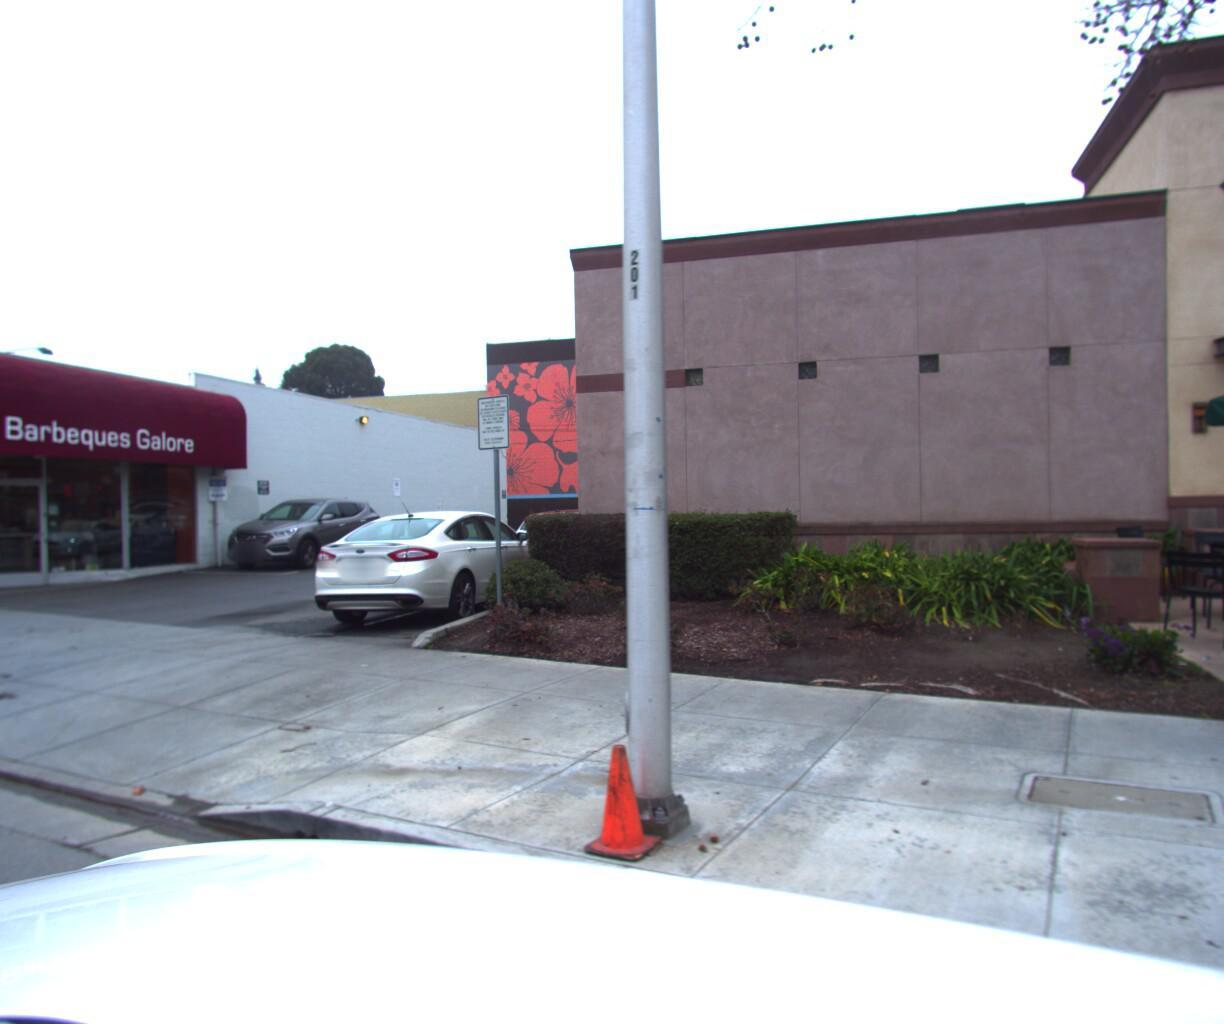car: (287, 506, 562, 642), (211, 492, 387, 575), (498, 506, 634, 582)
